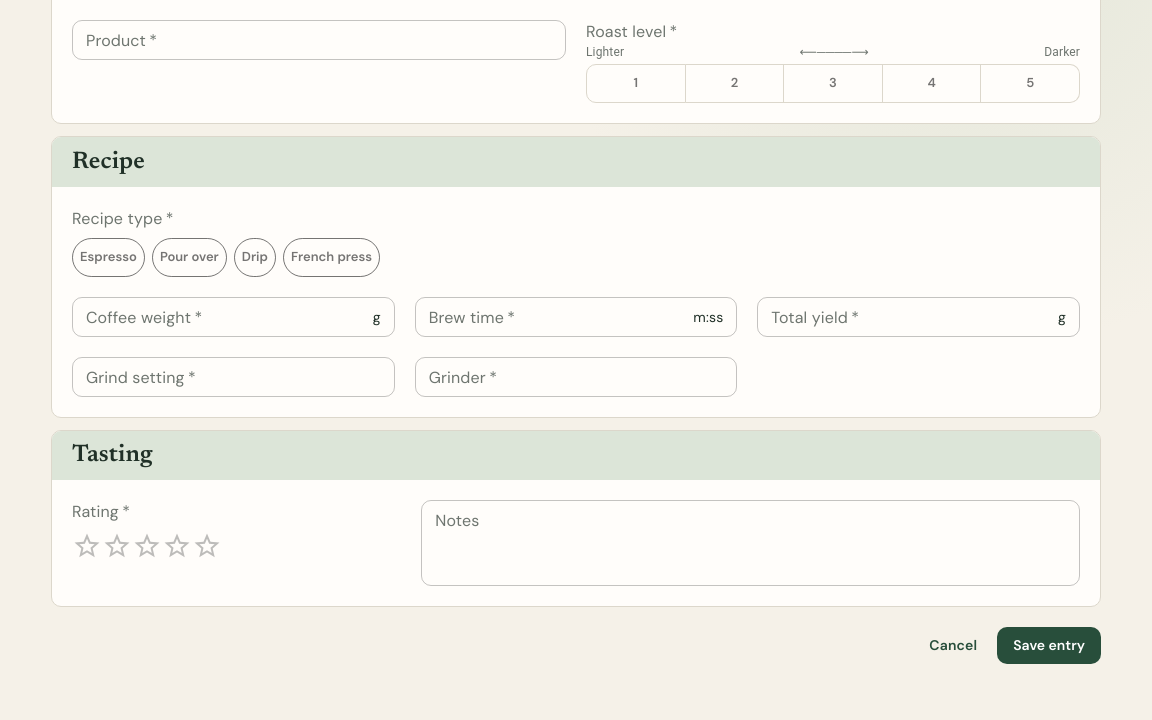
Scenario: coffee pages › requires the recipe fields before sending a request
(page scrolled)
What coordinates should you click on to do the following:
click the button "Save entry"
I would click on:
 (1049, 645)
Its box is 997,627 -> 1101,664.
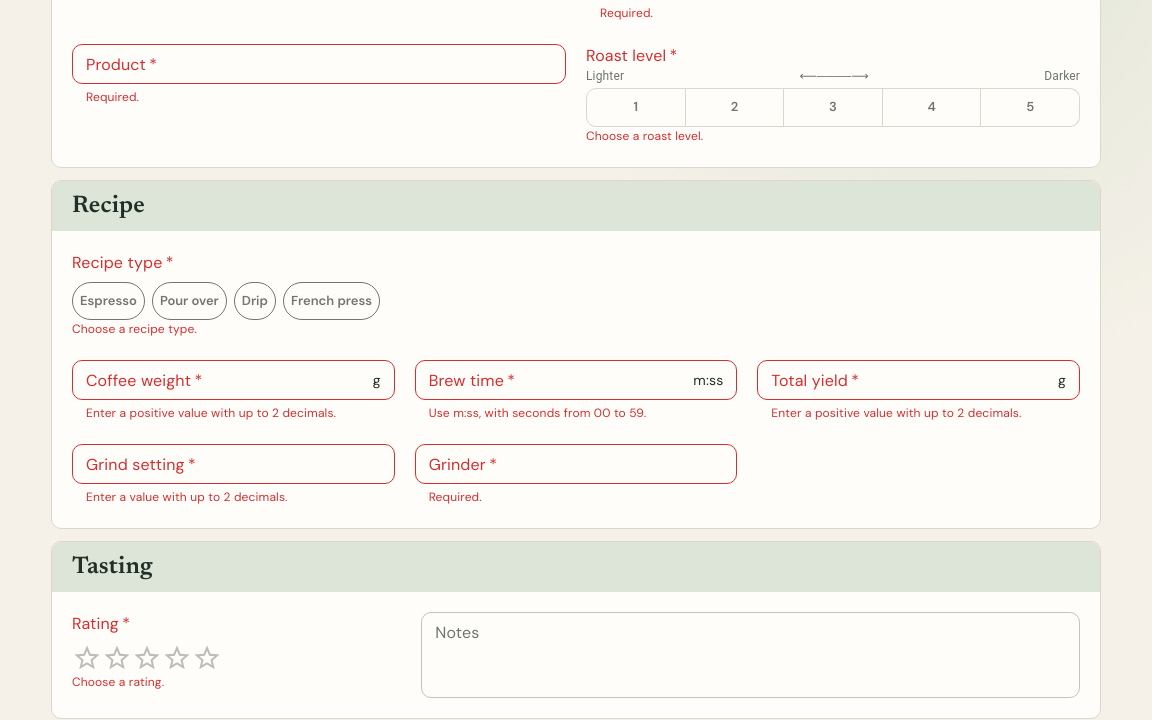
Expected: the text "Choose a roast level." is shown, 586,128 -> 703,144
Expected: the text "Choose a recipe type." is shown, 72,321 -> 197,337
Expected: the text "Choose a rating." is shown, 72,674 -> 164,690
